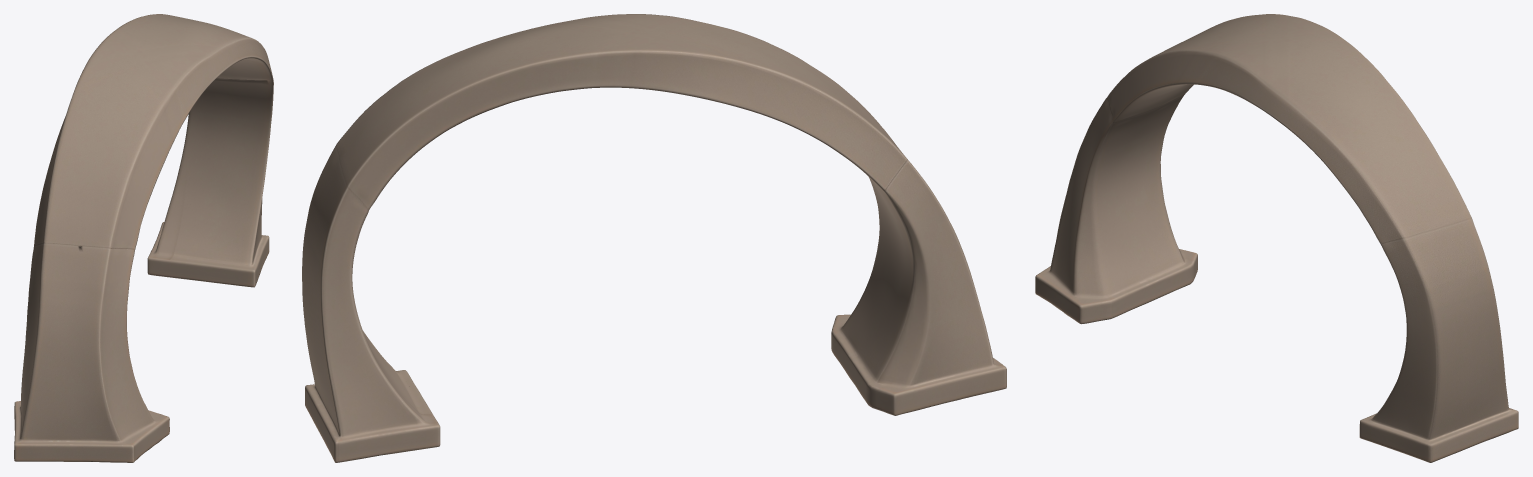
File: portalvet.glb
3 views of the same model, side by side, from view 1: azimuth 30°, elevation 25°; view 2: azimuth 150°, elevation 25°; view 3: azimuth 270°, elevation 25° (orthographic). The views are drawn at different scales.
Visible parts, largest first — view 1: tripo_node_485c8522-c224-4186-9621-23d3be737d59; view 2: tripo_node_485c8522-c224-4186-9621-23d3be737d59; view 3: tripo_node_485c8522-c224-4186-9621-23d3be737d59.
Part boxes in pixels (x1=…): tripo_node_485c8522-c224-4186-9621-23d3be737d59: x1=14, y1=14, x2=273, y2=462; tripo_node_485c8522-c224-4186-9621-23d3be737d59: x1=302, y1=14, x2=1006, y2=462; tripo_node_485c8522-c224-4186-9621-23d3be737d59: x1=1035, y1=14, x2=1518, y2=462.
Size of the model in its own units: 0.9803 by 0.6911 by 0.9357.
Materials: 1 (1 with a texture image).
